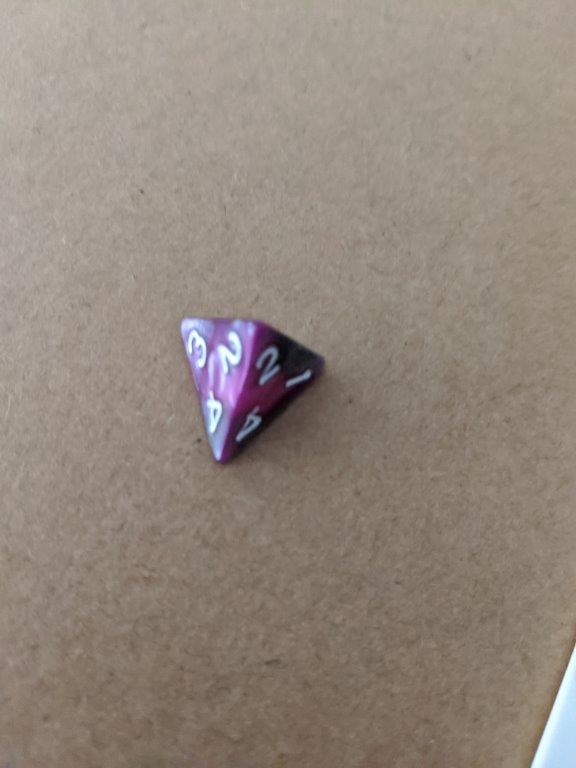d4-2: (175, 309, 328, 464)
